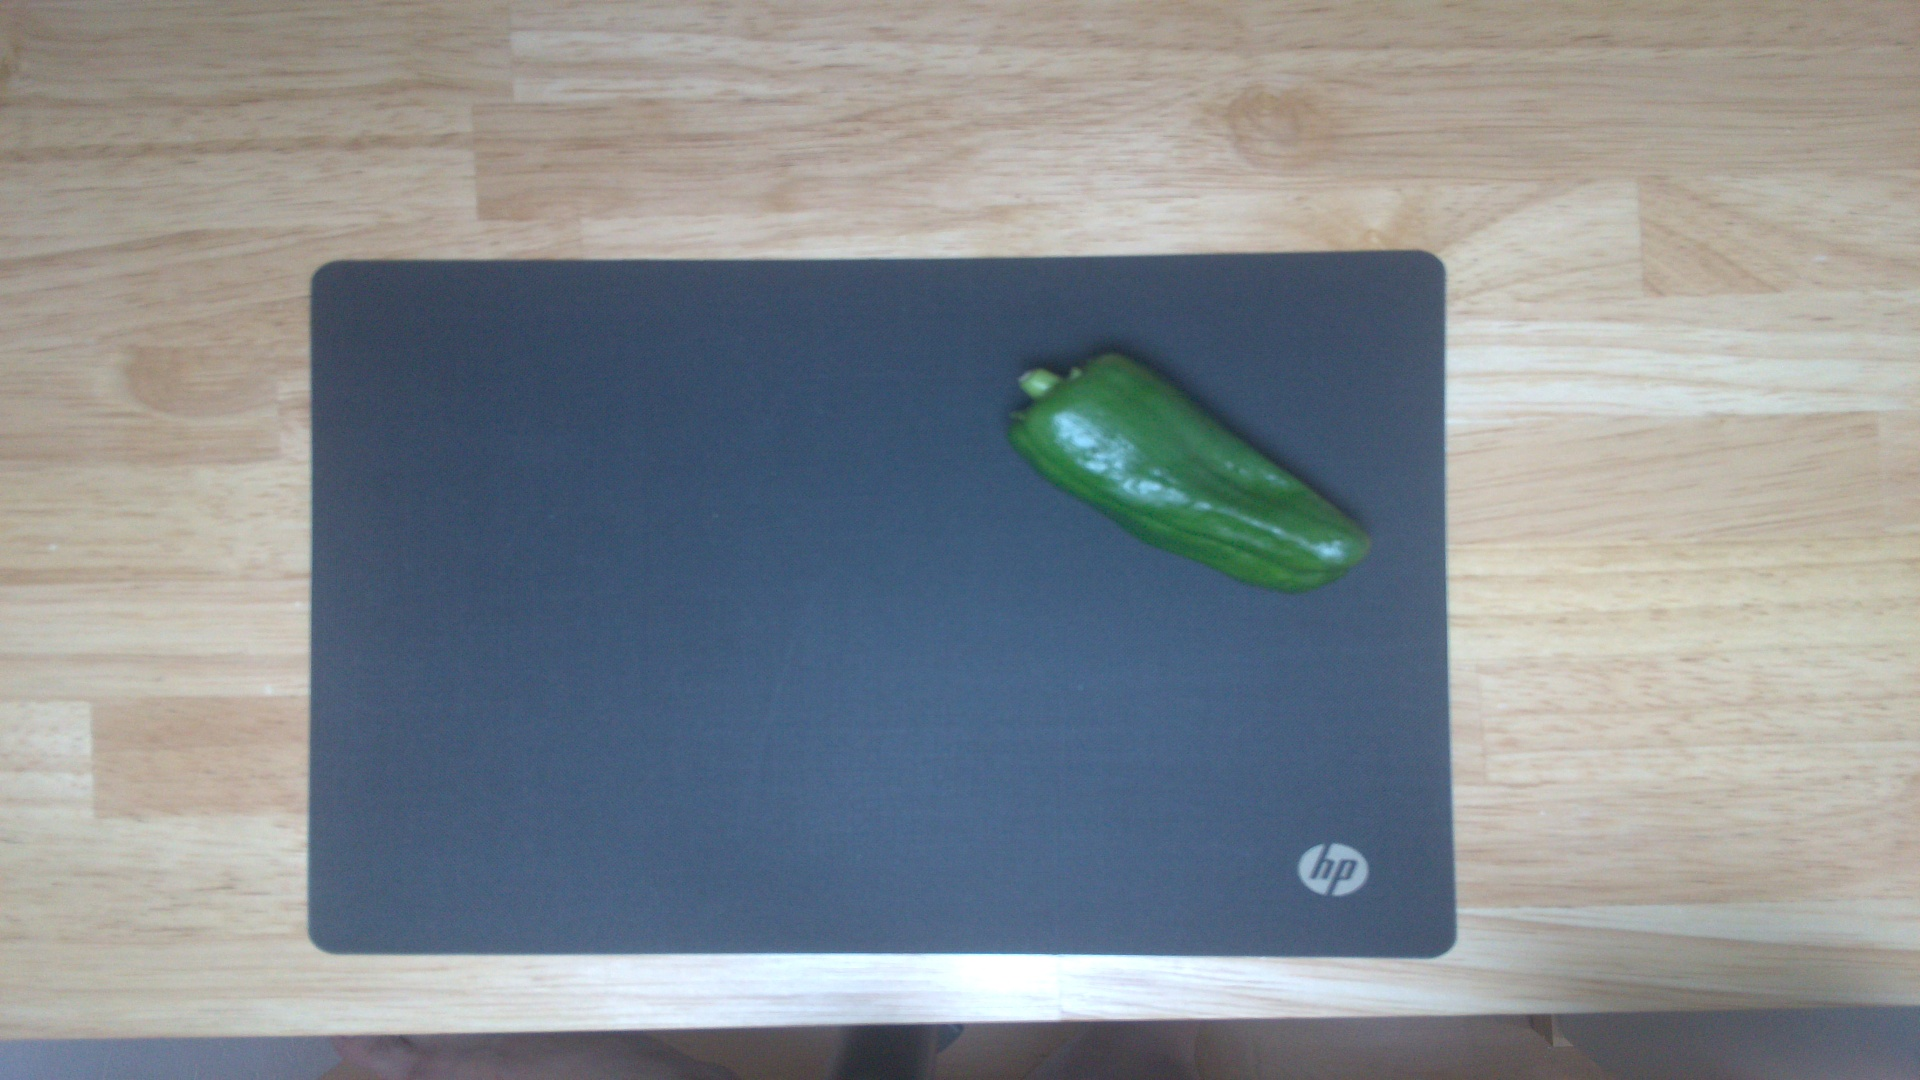Piman: (1002, 345, 1375, 593)
